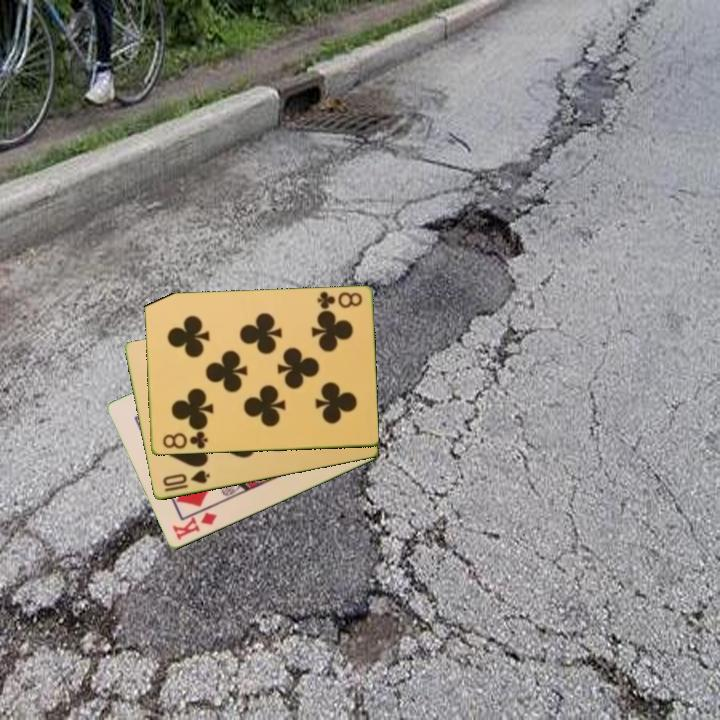10s: (159, 467, 213, 495)
8c: (159, 428, 210, 452), (313, 288, 364, 312)
Kd: (169, 509, 220, 544)
